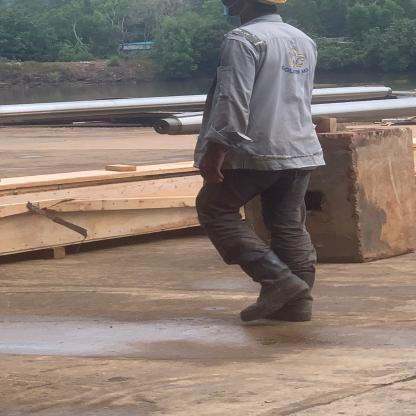bota: (230, 248, 307, 322), (278, 268, 321, 321)
